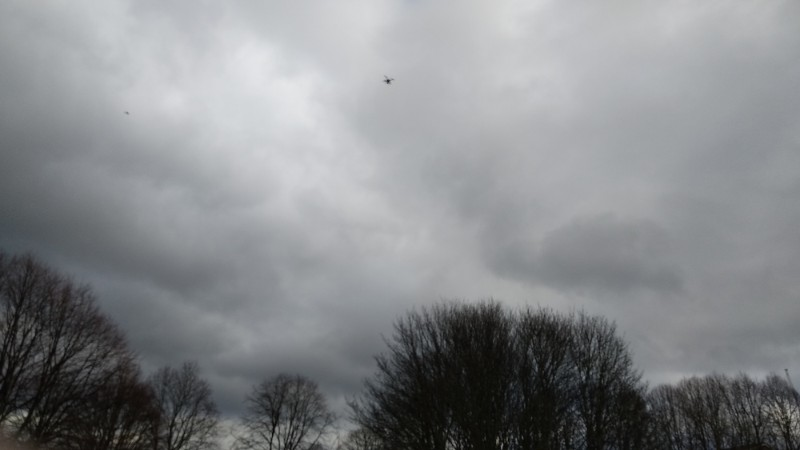drone: (383, 75, 394, 85)
